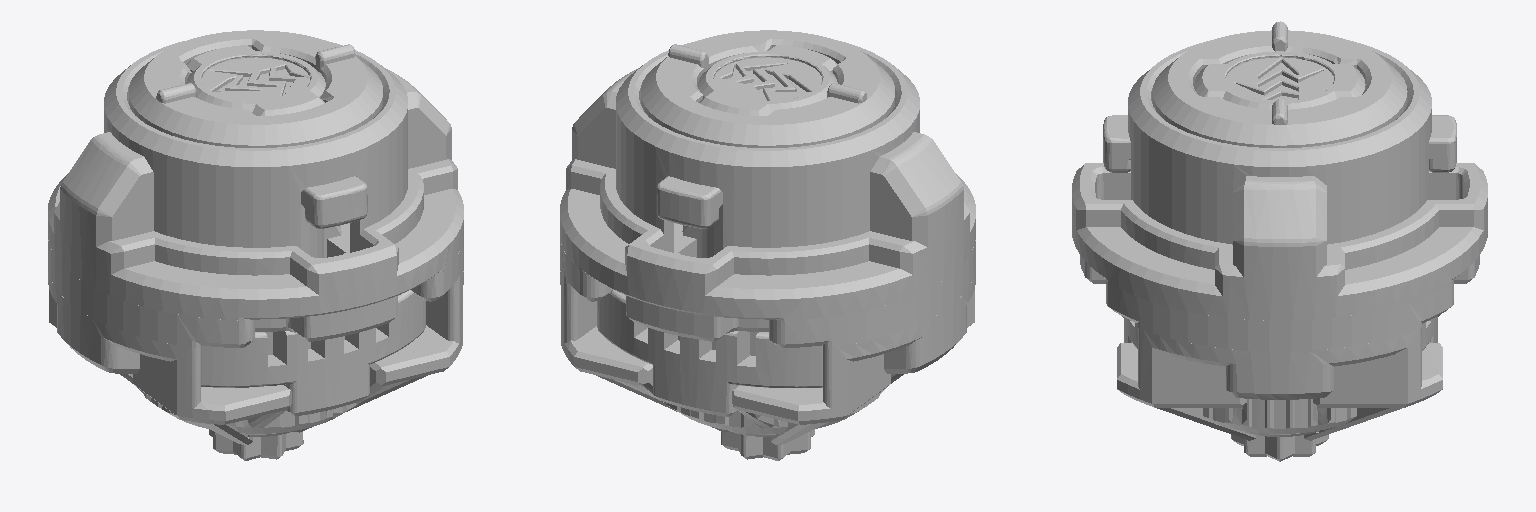
The model's file is reboot_driver_activated.obj.
The picture shows the model from 3 angles: view 1: azimuth 30°, elevation 25°; view 2: azimuth 150°, elevation 25°; view 3: azimuth 270°, elevation 25°; orthographic projection.
Parts seen in each view (by area): view 1: Mesh_0035out.001, Mesh_0027out.002, Mesh_0023out.001; view 2: Mesh_0035out.001, Mesh_0027out.002, Mesh_0024out.003; view 3: Mesh_0035out.001, Mesh_0027out.002.
Boxes of the visible parts, x1,y1,x2,y2 form: Mesh_0035out.001: [48, 40, 463, 460]; Mesh_0027out.002: [129, 30, 382, 228]; Mesh_0023out.001: [201, 290, 425, 416]; Mesh_0035out.001: [560, 40, 975, 460]; Mesh_0027out.002: [641, 30, 894, 228]; Mesh_0024out.003: [597, 290, 822, 416]; Mesh_0035out.001: [1072, 40, 1487, 461]; Mesh_0027out.002: [1103, 21, 1456, 172].
Size of the model in its own units: 0.2678 by 0.267 by 0.268.